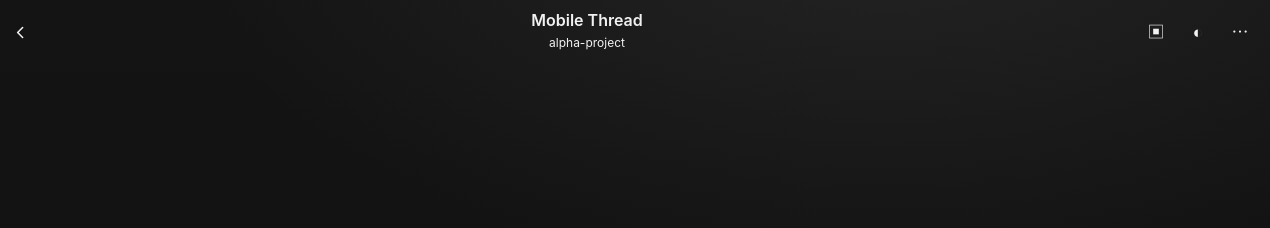
Test case: MobileChatTopBar slice 1: project label + view menu › opens a view-mode menu with three options when Views is tapped
Click the button with test id "mobile-topbar-views-toggle": (1198, 32) [1180,14,1216,50]
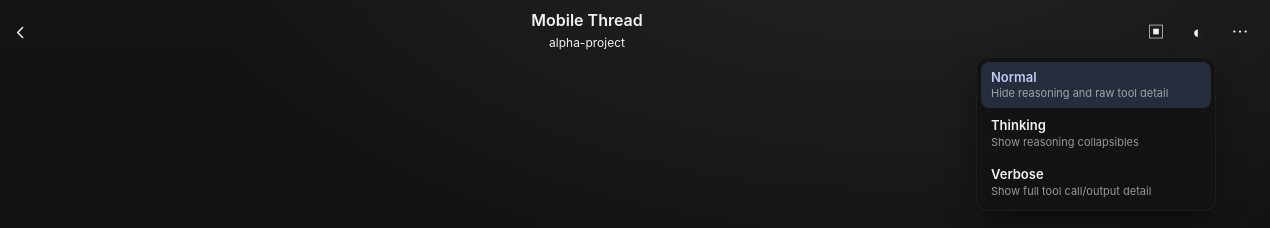
Now the menu with test id "mobile-topbar-views-menu" is shown, box [976,56,1216,211]
